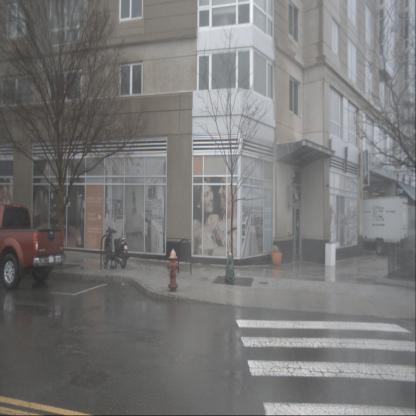vehicle-motorcycle: (103, 218, 129, 268)
vehicle-truck: (0, 205, 66, 290), (335, 197, 409, 255)
